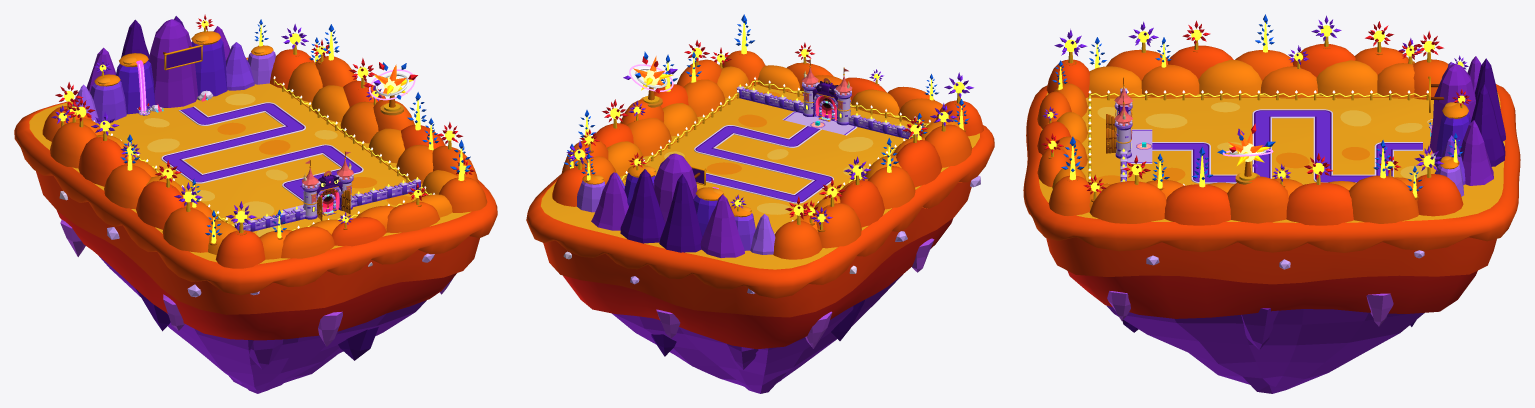
Rendered from the_big_bang_base.fbx.
The picture shows the model from 3 angles, left to right: view 1: azimuth 30°, elevation 25°; view 2: azimuth 150°, elevation 25°; view 3: azimuth 270°, elevation 25°; orthographic projection. The views are drawn at different scales.
Visible parts, largest first — view 1: Base_Cliff, Base_Backdrop, Base_Ground, Base_Road, Base_Trees, Base_Glow, Base_Gate, Base_Dressing, Base_GateTrim; view 2: Base_Cliff, Base_Backdrop, Base_Ground, Base_Road, Base_Trees, Base_Glow, Base_Gate, Base_Dressing, Base_GateTrim; view 3: Base_Cliff, Base_Backdrop, Base_Ground, Base_Road, Base_Trees, Base_Glow, Base_Gate, Base_Dressing, Base_GateTrim.
Boxes of the visible parts, x1,y1,x2,y2 form: Base_Cliff: [14, 57, 497, 393]; Base_Backdrop: [42, 16, 487, 268]; Base_Ground: [29, 58, 470, 264]; Base_Road: [161, 102, 363, 212]; Base_Trees: [51, 14, 474, 245]; Base_Glow: [58, 20, 468, 243]; Base_Gate: [234, 151, 421, 231]; Base_Dressing: [132, 79, 428, 229]; Base_GateTrim: [301, 151, 353, 203]; Base_Cliff: [526, 125, 994, 393]; Base_Backdrop: [552, 50, 983, 259]; Base_Ground: [541, 84, 979, 269]; Base_Road: [694, 111, 857, 203]; Base_Trees: [564, 14, 973, 231]; Base_Glow: [570, 23, 964, 233]; Base_Gate: [736, 59, 917, 139]; Base_Dressing: [622, 80, 930, 192]; Base_GateTrim: [802, 60, 852, 127]; Base_Cliff: [1023, 84, 1520, 393]; Base_Backdrop: [1037, 44, 1505, 225]; Base_Ground: [1039, 92, 1504, 222]; Base_Road: [1127, 109, 1422, 183]; Base_Trees: [1041, 14, 1471, 201]; Base_Glow: [1047, 22, 1465, 197]; Base_Gate: [1106, 77, 1152, 182]; Base_Dressing: [1088, 93, 1428, 181]; Base_GateTrim: [1114, 86, 1150, 149].
Size of the model in its own units: 188 by 179 by 244.
